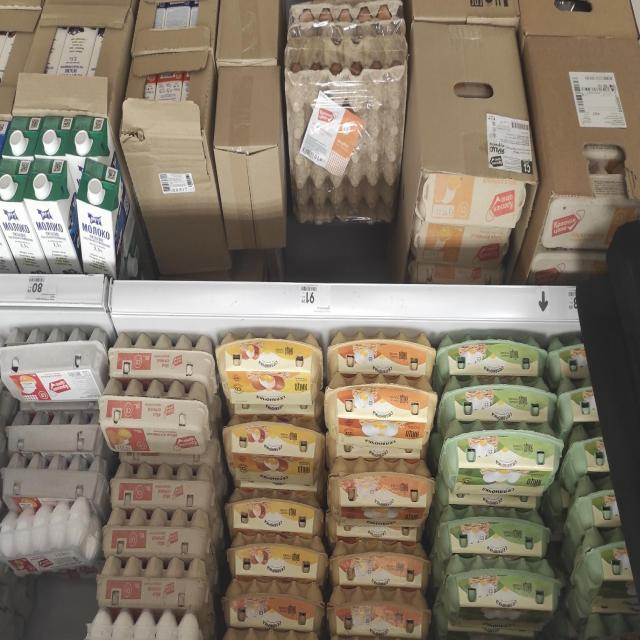organic waste: (438, 421, 565, 496), (441, 557, 563, 632), (99, 379, 212, 456), (0, 326, 109, 405), (324, 375, 439, 448), (215, 329, 324, 405), (327, 457, 435, 528), (222, 417, 324, 484), (95, 556, 206, 610), (434, 507, 550, 558), (101, 507, 212, 556), (327, 586, 432, 637), (441, 377, 556, 422), (109, 462, 216, 510), (329, 538, 433, 587), (107, 332, 216, 378), (572, 530, 637, 607), (222, 581, 326, 629), (326, 330, 434, 375), (226, 534, 329, 578), (436, 335, 546, 376), (223, 490, 325, 533), (567, 476, 621, 528), (555, 376, 599, 428), (566, 428, 612, 474), (547, 336, 588, 384), (575, 614, 640, 640), (441, 628, 533, 640), (216, 632, 324, 640)
